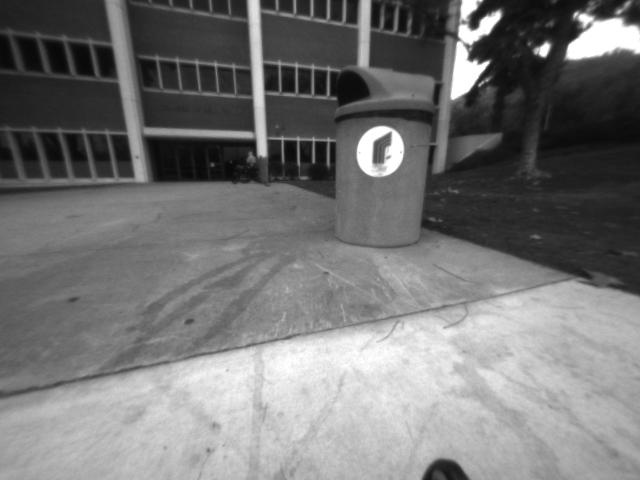trashcan: (327, 57, 440, 250)
